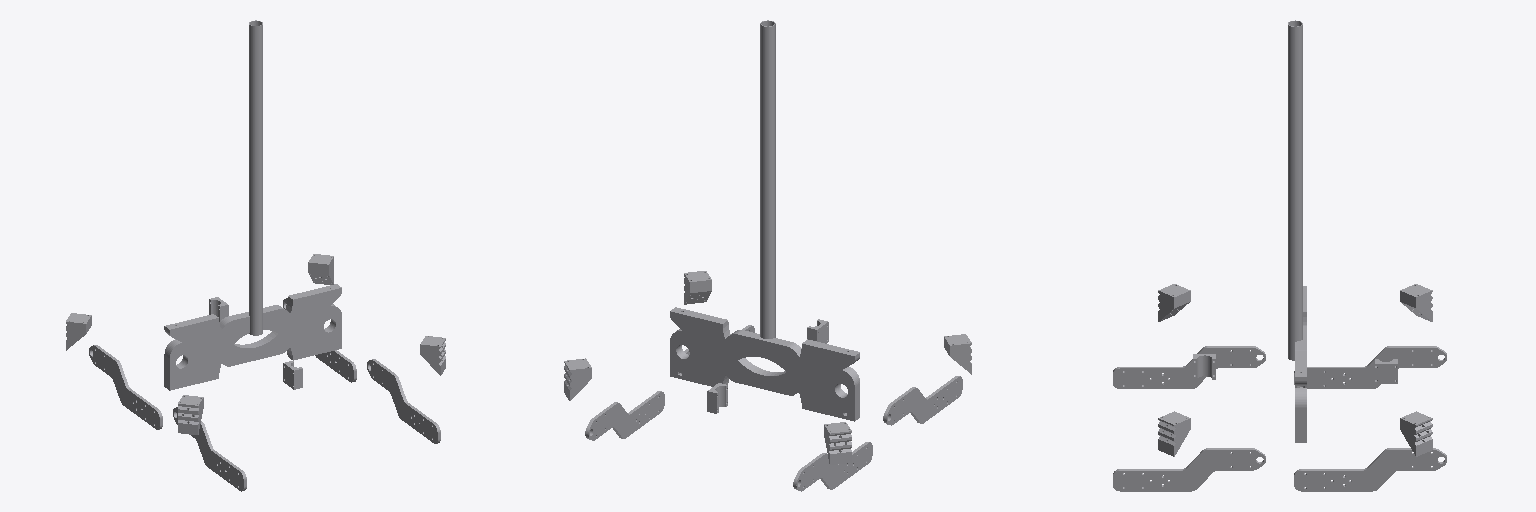
The robot description file, URDF, robot "wauv_frame":
<?xml version="1.0"?>
<!-- Hand-authored WAUV frame URDF (reuses real Onshape STL meshes) -->
<robot name="wauv_frame">
  <link name="enclosure">
    <inertial>
      <mass value="2.0"/>
      <origin xyz="0 0 0" rpy="0 0 0"/>
      <inertia ixx="0.00468333" ixy="0" ixz="0" iyy="0.0154167" iyz="0" izz="0.0192667"/>
    </inertial>
    <visual>
      <origin xyz="0 0 0" rpy="0 0 0"/>
      <geometry>
        <mesh filename="package://frame/meshes/Encl_Plate1_1.stl" scale="1 1 1"/>
      </geometry>
      <material name="aluminium"><color rgba="0.7 0.7 0.72 1"/></material>
    </visual>
  </link>
  <link name="enclosure_top">
    <inertial>
      <mass value="1.5"/>
      <origin xyz="0 0 0" rpy="0 0 0"/>
      <inertia ixx="0.0034" ixy="0" ixz="0" iyy="0.01145" iyz="0" izz="0.01445"/>
    </inertial>
    <visual>
      <origin xyz="0 0 0" rpy="0 0 0"/>
      <geometry>
        <mesh filename="package://frame/meshes/Encl_Plate1.stl" scale="1 1 1"/>
      </geometry>
      <material name="aluminium"><color rgba="0.7 0.7 0.72 1"/></material>
    </visual>
  </link>
  <link name="tube">
    <inertial>
      <mass value="0.6"/>
      <origin xyz="0 0 0" rpy="0 0 0"/>
      <inertia ixx="0.00468" ixy="0" ixz="0" iyy="0.00468" iyz="0" izz="0.00036"/>
    </inertial>
    <visual>
      <origin xyz="0 0 0" rpy="0 0 0"/>
      <geometry>
        <mesh filename="package://frame/meshes/Tube_30.stl" scale="1 1 1"/>
      </geometry>
      <material name="aluminium"><color rgba="0.7 0.7 0.72 1"/></material>
    </visual>
  </link>
  <link name="clamp_left">
    <inertial>
      <mass value="0.08"/>
      <origin xyz="0 0 0" rpy="0 0 0"/>
      <inertia ixx="2.13333e-05" ixy="0" ixz="0" iyy="2.73333e-05" iyz="0" izz="2.73333e-05"/>
    </inertial>
    <visual>
      <origin xyz="0 0 0" rpy="0 0 0"/>
      <geometry>
        <mesh filename="package://frame/meshes/Leg_Bar_Clamp.stl" scale="1 1 1"/>
      </geometry>
      <material name="aluminium"><color rgba="0.7 0.7 0.72 1"/></material>
    </visual>
  </link>
  <link name="clamp_right">
    <inertial>
      <mass value="0.08"/>
      <origin xyz="0 0 0" rpy="0 0 0"/>
      <inertia ixx="2.13333e-05" ixy="0" ixz="0" iyy="2.73333e-05" iyz="0" izz="2.73333e-05"/>
    </inertial>
    <visual>
      <origin xyz="0 0 0" rpy="0 0 0"/>
      <geometry>
        <mesh filename="package://frame/meshes/Leg_Bar_Clamp_1.stl" scale="1 1 1"/>
      </geometry>
      <material name="aluminium"><color rgba="0.7 0.7 0.72 1"/></material>
    </visual>
  </link>
  <link name="leg_fl">
    <inertial>
      <mass value="0.4"/>
      <origin xyz="0 0 0" rpy="0 0 0"/>
      <inertia ixx="0.00213667" ixy="0" ixz="0" iyy="0.00213667" iyz="0" izz="0.000106667"/>
    </inertial>
    <visual>
      <origin xyz="0 0 0" rpy="0 0 0"/>
      <geometry>
        <mesh filename="package://frame/meshes/Frame_Leg.stl" scale="1 1 1"/>
      </geometry>
      <material name="aluminium"><color rgba="0.7 0.7 0.72 1"/></material>
    </visual>
  </link>
  <link name="leg_fr">
    <inertial>
      <mass value="0.4"/>
      <origin xyz="0 0 0" rpy="0 0 0"/>
      <inertia ixx="0.00213667" ixy="0" ixz="0" iyy="0.00213667" iyz="0" izz="0.000106667"/>
    </inertial>
    <visual>
      <origin xyz="0 0 0" rpy="0 0 0"/>
      <geometry>
        <mesh filename="package://frame/meshes/Frame_Leg.stl" scale="1 1 1"/>
      </geometry>
      <material name="aluminium"><color rgba="0.7 0.7 0.72 1"/></material>
    </visual>
  </link>
  <link name="leg_bl">
    <inertial>
      <mass value="0.4"/>
      <origin xyz="0 0 0" rpy="0 0 0"/>
      <inertia ixx="0.00213667" ixy="0" ixz="0" iyy="0.00213667" iyz="0" izz="0.000106667"/>
    </inertial>
    <visual>
      <origin xyz="0 0 0" rpy="0 0 0"/>
      <geometry>
        <mesh filename="package://frame/meshes/Frame_Leg.stl" scale="1 1 1"/>
      </geometry>
      <material name="aluminium"><color rgba="0.7 0.7 0.72 1"/></material>
    </visual>
  </link>
  <link name="leg_br">
    <inertial>
      <mass value="0.4"/>
      <origin xyz="0 0 0" rpy="0 0 0"/>
      <inertia ixx="0.00213667" ixy="0" ixz="0" iyy="0.00213667" iyz="0" izz="0.000106667"/>
    </inertial>
    <visual>
      <origin xyz="0 0 0" rpy="0 0 0"/>
      <geometry>
        <mesh filename="package://frame/meshes/Frame_Leg.stl" scale="1 1 1"/>
      </geometry>
      <material name="aluminium"><color rgba="0.7 0.7 0.72 1"/></material>
    </visual>
  </link>
  <link name="thruster_fl">
    <inertial>
      <mass value="0.5"/>
      <origin xyz="0 0 0" rpy="0 0 0"/>
      <inertia ixx="0.000683333" ixy="0" ixz="0" iyy="0.000683333" iyz="0" izz="0.000533333"/>
    </inertial>
    <visual>
      <origin xyz="0 0 0" rpy="0 0 0"/>
      <geometry>
        <mesh filename="package://frame/meshes/_45angle_MotorMount2.stl" scale="1 1 1"/>
      </geometry>
      <material name="aluminium"><color rgba="0.7 0.7 0.72 1"/></material>
    </visual>
  </link>
  <link name="thruster_fr">
    <inertial>
      <mass value="0.5"/>
      <origin xyz="0 0 0" rpy="0 0 0"/>
      <inertia ixx="0.000683333" ixy="0" ixz="0" iyy="0.000683333" iyz="0" izz="0.000533333"/>
    </inertial>
    <visual>
      <origin xyz="0 0 0" rpy="0 0 0"/>
      <geometry>
        <mesh filename="package://frame/meshes/_45angle_MotorMount2.stl" scale="1 1 1"/>
      </geometry>
      <material name="aluminium"><color rgba="0.7 0.7 0.72 1"/></material>
    </visual>
  </link>
  <link name="thruster_bl">
    <inertial>
      <mass value="0.5"/>
      <origin xyz="0 0 0" rpy="0 0 0"/>
      <inertia ixx="0.000683333" ixy="0" ixz="0" iyy="0.000683333" iyz="0" izz="0.000533333"/>
    </inertial>
    <visual>
      <origin xyz="0 0 0" rpy="0 0 0"/>
      <geometry>
        <mesh filename="package://frame/meshes/_45angle_MotorMount2.stl" scale="1 1 1"/>
      </geometry>
      <material name="aluminium"><color rgba="0.7 0.7 0.72 1"/></material>
    </visual>
  </link>
  <link name="thruster_br">
    <inertial>
      <mass value="0.5"/>
      <origin xyz="0 0 0" rpy="0 0 0"/>
      <inertia ixx="0.000683333" ixy="0" ixz="0" iyy="0.000683333" iyz="0" izz="0.000533333"/>
    </inertial>
    <visual>
      <origin xyz="0 0 0" rpy="0 0 0"/>
      <geometry>
        <mesh filename="package://frame/meshes/_45angle_MotorMount2.stl" scale="1 1 1"/>
      </geometry>
      <material name="aluminium"><color rgba="0.7 0.7 0.72 1"/></material>
    </visual>
  </link>
  <joint name="enclosure_top_joint" type="fixed">
    <parent link="enclosure"/>
    <child link="enclosure_top"/>
    <origin xyz="0 0 0.12" rpy="0 0 0"/>
  </joint>
  <joint name="tube_joint" type="fixed">
    <parent link="enclosure"/>
    <child link="tube"/>
    <origin xyz="0 0 0.06" rpy="0 0 0"/>
  </joint>
  <joint name="clamp_left_joint" type="fixed">
    <parent link="enclosure"/>
    <child link="clamp_left"/>
    <origin xyz="0 0.15 0.02" rpy="0 0 0"/>
  </joint>
  <joint name="clamp_right_joint" type="fixed">
    <parent link="enclosure"/>
    <child link="clamp_right"/>
    <origin xyz="0 -0.15 0.02" rpy="0 0 0"/>
  </joint>
  <joint name="leg_fl_joint" type="fixed">
    <parent link="enclosure"/>
    <child link="leg_fl"/>
    <origin xyz="0.2 0.15 -0.05" rpy="0 0 0"/>
  </joint>
  <joint name="leg_fr_joint" type="fixed">
    <parent link="enclosure"/>
    <child link="leg_fr"/>
    <origin xyz="0.2 -0.15 -0.05" rpy="0 0 0"/>
  </joint>
  <joint name="leg_bl_joint" type="fixed">
    <parent link="enclosure"/>
    <child link="leg_bl"/>
    <origin xyz="-0.2 0.15 -0.05" rpy="0 0 0"/>
  </joint>
  <joint name="leg_br_joint" type="fixed">
    <parent link="enclosure"/>
    <child link="leg_br"/>
    <origin xyz="-0.2 -0.15 -0.05" rpy="0 0 0"/>
  </joint>
  <joint name="thruster_fl_joint" type="continuous">
    <parent link="enclosure"/>
    <child link="thruster_fl"/>
    <origin xyz="0.25 0.2 0.0" rpy="0 0 0.785"/>
    <axis xyz="0 0 1"/>
    <limit effort="5" velocity="30"/>
  </joint>
  <joint name="thruster_fr_joint" type="continuous">
    <parent link="enclosure"/>
    <child link="thruster_fr"/>
    <origin xyz="0.25 -0.2 0.0" rpy="0 0 -0.785"/>
    <axis xyz="0 0 1"/>
    <limit effort="5" velocity="30"/>
  </joint>
  <joint name="thruster_bl_joint" type="continuous">
    <parent link="enclosure"/>
    <child link="thruster_bl"/>
    <origin xyz="-0.25 0.2 0.0" rpy="0 0 2.356"/>
    <axis xyz="0 0 1"/>
    <limit effort="5" velocity="30"/>
  </joint>
  <joint name="thruster_br_joint" type="continuous">
    <parent link="enclosure"/>
    <child link="thruster_br"/>
    <origin xyz="-0.25 -0.2 0.0" rpy="0 0 -2.356"/>
    <axis xyz="0 0 1"/>
    <limit effort="5" velocity="30"/>
  </joint>
</robot>

--- Facts derived from the render (not from the file) ---
3 views of the same robot in one strip: view 1: azimuth 30°, elevation 25°; view 2: azimuth 150°, elevation 25°; view 3: azimuth 270°, elevation 25° (orthographic).
Robot: wauv_frame — 13 links, 12 joints (4 continuous, 8 fixed); root link enclosure; default pose: all joints at 0.
Links seen in each view (by area): view 1: enclosure, tube, enclosure_top, leg_fr, leg_bl, leg_br, thruster_br, thruster_fr, leg_fl, thruster_fl, thruster_bl; view 2: enclosure, tube, enclosure_top, leg_fl, leg_br, leg_bl, thruster_bl, thruster_fl, thruster_fr, thruster_br; view 3: tube, leg_fr, leg_fl, leg_br, leg_bl, thruster_fl, thruster_fr, thruster_bl, thruster_br, enclosure, enclosure_top, clamp_right (+1 smaller).
Link boxes in pixels (x1,y1,x2,y2): enclosure: [164, 304, 341, 390]; tube: [249, 20, 262, 335]; enclosure_top: [164, 284, 341, 366]; leg_fr: [367, 359, 440, 443]; leg_bl: [89, 345, 162, 429]; leg_br: [173, 407, 246, 491]; thruster_br: [178, 395, 203, 434]; thruster_fr: [420, 336, 445, 375]; leg_fl: [283, 298, 356, 382]; thruster_fl: [308, 254, 333, 284]; thruster_bl: [66, 313, 91, 350]; enclosure: [670, 329, 859, 421]; tube: [760, 20, 775, 338]; enclosure_top: [670, 307, 859, 395]; leg_fl: [585, 391, 664, 440]; leg_br: [883, 376, 962, 425]; leg_bl: [793, 442, 872, 491]; thruster_bl: [824, 422, 851, 464]; thruster_fl: [564, 358, 591, 400]; thruster_fr: [684, 271, 711, 304]; thruster_br: [944, 334, 971, 374]; tube: [1288, 20, 1302, 360]; leg_fr: [1113, 448, 1265, 491]; leg_fl: [1294, 448, 1446, 491]; leg_br: [1113, 346, 1265, 388]; leg_bl: [1294, 346, 1446, 388]; thruster_fl: [1400, 411, 1432, 456]; thruster_fr: [1158, 411, 1190, 456]; thruster_bl: [1400, 284, 1432, 321]; thruster_br: [1158, 284, 1190, 321]; enclosure: [1295, 325, 1306, 442]; enclosure_top: [1295, 286, 1306, 387]; clamp_right: [1193, 354, 1215, 379].
Bounding box of the posed robot: 0.5539 × 0.554 × 0.7577 m (x, y, z).
Meshes: 7 distinct files referenced, 13 mesh visuals loaded (7 binary STL).
